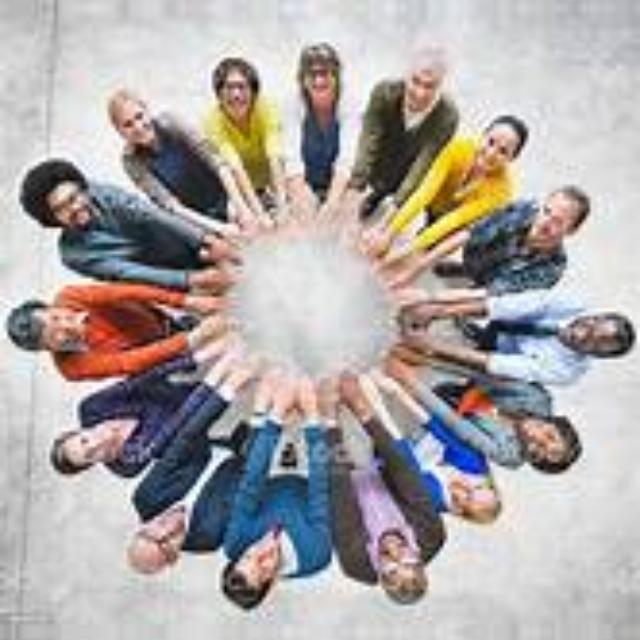person: (1, 130, 178, 266), (348, 520, 466, 632), (0, 291, 176, 366), (78, 73, 215, 165), (36, 382, 148, 484), (215, 516, 308, 630), (116, 478, 198, 594), (498, 397, 596, 493), (542, 290, 640, 382), (388, 38, 450, 170), (472, 110, 548, 196), (426, 464, 522, 532), (520, 181, 596, 251), (195, 57, 278, 119), (296, 39, 366, 101), (348, 632, 465, 640), (215, 633, 308, 640)
